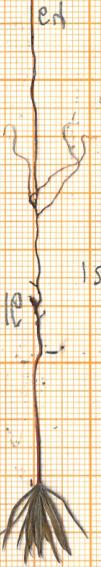flower: (0, 477, 90, 567)
root: (0, 0, 91, 349)
stem: (27, 349, 51, 483)
